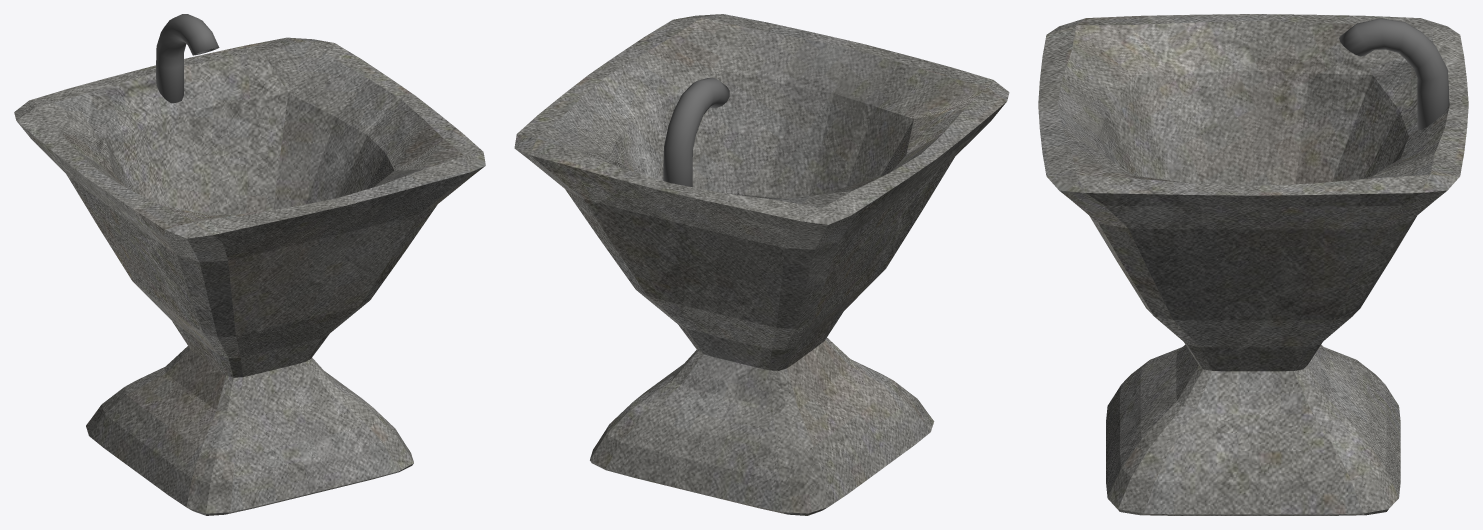
The model's file is Fuente para beber.fbx.
The picture shows the model from 3 angles, left to right: view 1: azimuth 30°, elevation 25°; view 2: azimuth 150°, elevation 25°; view 3: azimuth 270°, elevation 25°; orthographic projection. The views are drawn at different scales.
Visible parts, largest first — view 1: Cube, Cylinder; view 2: Cube, Cylinder; view 3: Cube, Cylinder.
Part boxes in pixels (x1,y1,x2,y2): Cube: [14, 37, 485, 515]; Cylinder: [156, 14, 219, 103]; Cube: [514, 14, 1009, 515]; Cylinder: [663, 77, 729, 187]; Cube: [1038, 14, 1468, 515]; Cylinder: [1339, 18, 1448, 130].
Size of the model in its own units: 216 by 243 by 217.
Materials: 2 (1 with a texture image).
